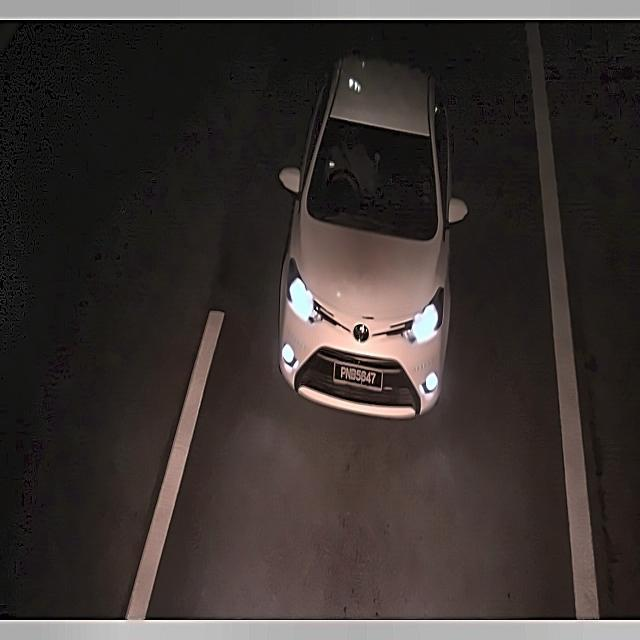car: (328, 356, 387, 398)
